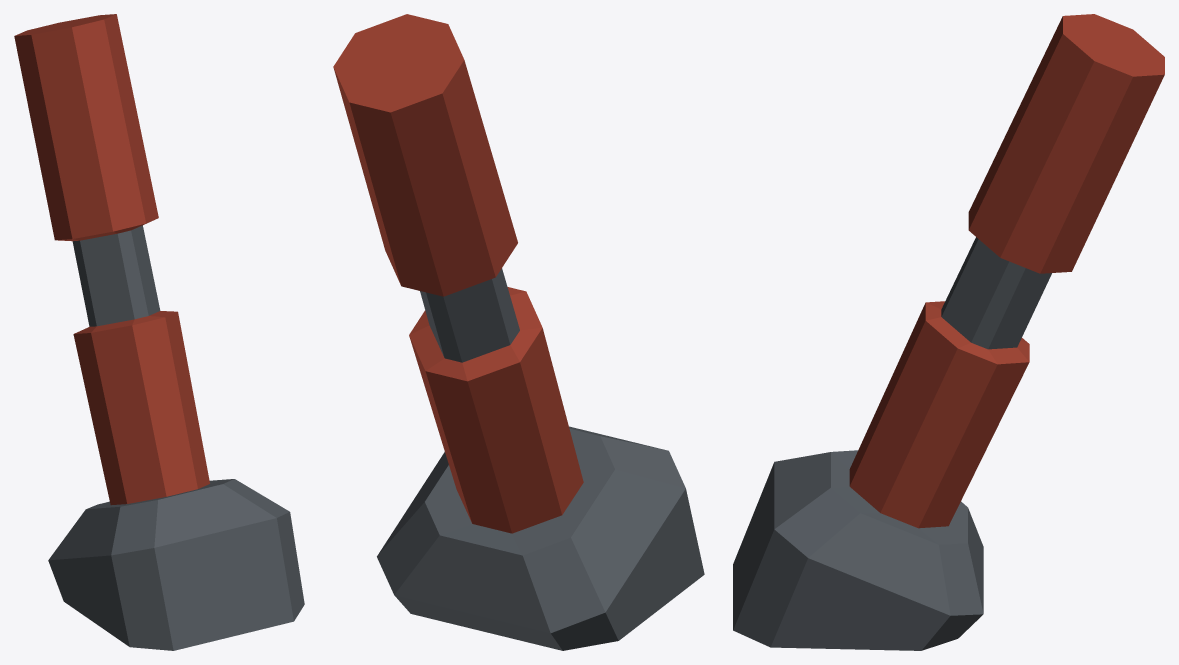
Rendered from Dropship_04_Lander_Front_Red.fbx.
3 views of the same model, side by side, from view 1: azimuth 30°, elevation 25°; view 2: azimuth 150°, elevation 25°; view 3: azimuth 270°, elevation 25° (orthographic). The views are drawn at different scales.
Parts seen in each view (by area): view 1: Dropship_04_Lander_Front_Red; view 2: Dropship_04_Lander_Front_Red; view 3: Dropship_04_Lander_Front_Red.
Part boxes in pixels (x1,y1,x2,y2): Dropship_04_Lander_Front_Red: (14, 14, 304, 650); Dropship_04_Lander_Front_Red: (333, 14, 704, 650); Dropship_04_Lander_Front_Red: (733, 14, 1164, 650).
Bounding box in the file's own units: 81.34 × 227 × 150.
Materials: 1 (1 with a texture image).
